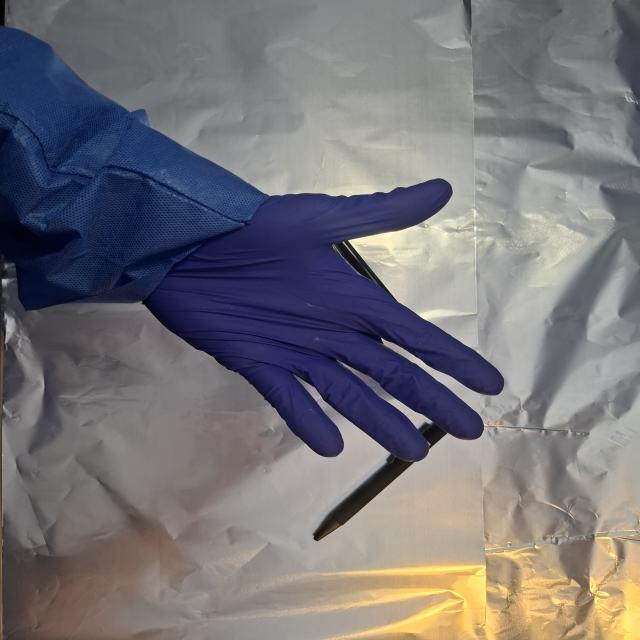glove_on: (143, 175, 507, 464)
